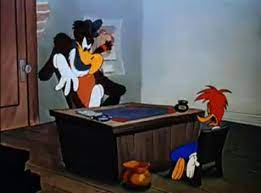picapau: (164, 86, 240, 179)
urubu: (36, 20, 129, 119)
